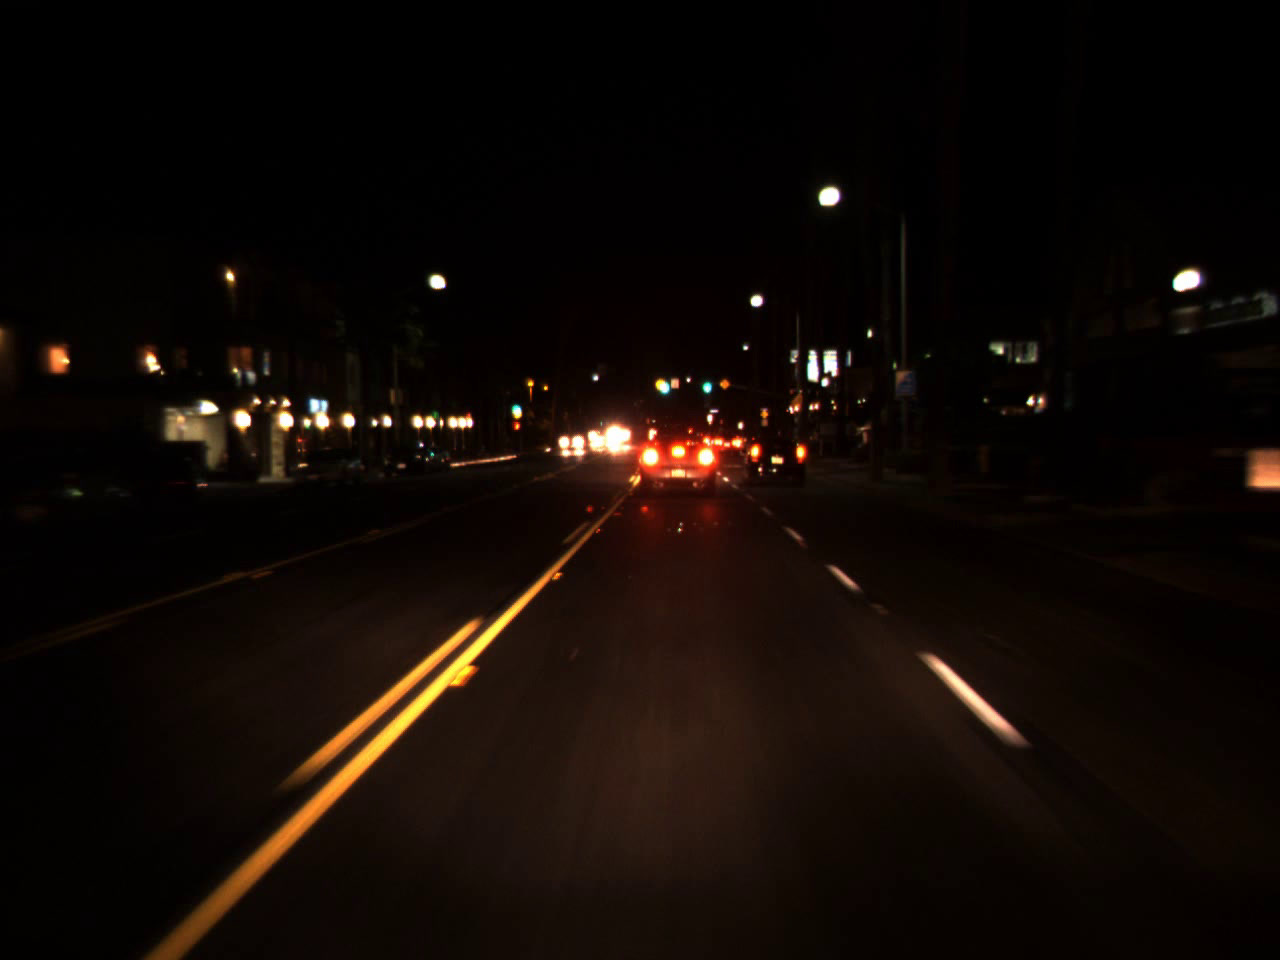go: (654, 369, 672, 396), (700, 368, 712, 395), (511, 400, 521, 412)
